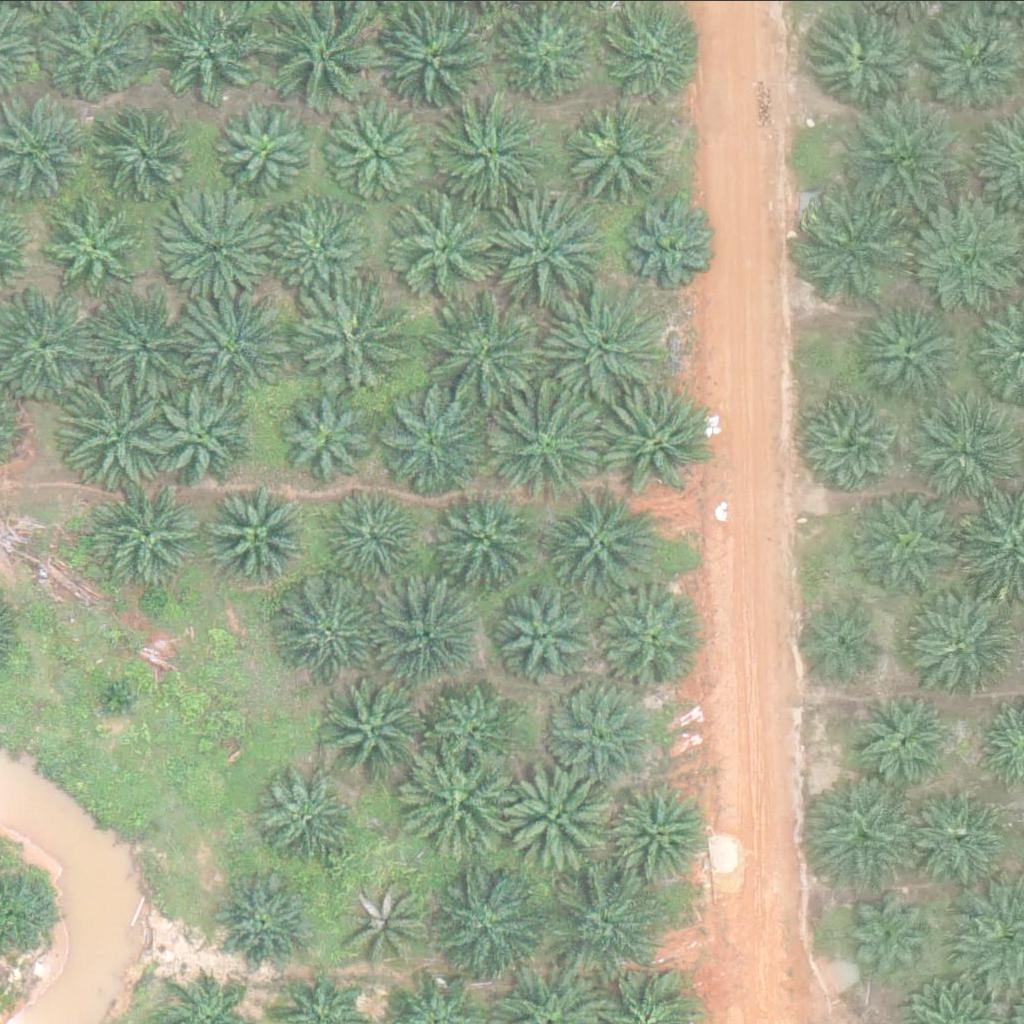Kelapa_Sawit: (159, 192, 273, 305), (175, 283, 289, 396), (552, 289, 666, 402), (492, 392, 606, 505), (593, 576, 707, 689), (545, 489, 659, 602), (853, 109, 966, 222), (802, 195, 915, 308), (906, 594, 1019, 707), (433, 97, 546, 210), (394, 187, 507, 300), (293, 278, 406, 391), (372, 577, 485, 690), (807, 5, 921, 117), (851, 490, 965, 602), (800, 778, 914, 890), (376, 386, 490, 498), (570, 96, 683, 208), (491, 186, 604, 298), (426, 297, 539, 409), (603, 381, 716, 493), (53, 375, 166, 487), (316, 673, 429, 785), (399, 750, 512, 862), (497, 763, 610, 875), (552, 861, 665, 973), (431, 865, 544, 977), (854, 299, 955, 399), (912, 788, 1013, 888), (46, 4, 147, 104), (608, 3, 709, 103), (331, 103, 432, 203), (46, 197, 147, 297), (281, 386, 382, 486), (151, 385, 252, 485), (502, 584, 603, 684), (546, 683, 647, 783), (257, 769, 358, 869), (918, 405, 1018, 505), (801, 394, 901, 494), (847, 689, 947, 789), (105, 106, 205, 206), (278, 195, 378, 295), (94, 295, 194, 395), (102, 484, 202, 584), (211, 483, 311, 583), (327, 483, 427, 583), (443, 487, 543, 587), (287, 581, 387, 681), (609, 784, 709, 884), (212, 872, 312, 972), (225, 105, 314, 193), (797, 597, 885, 685), (430, 685, 518, 773), (845, 886, 933, 973), (632, 203, 720, 290), (343, 876, 431, 963), (89, 676, 140, 726)
